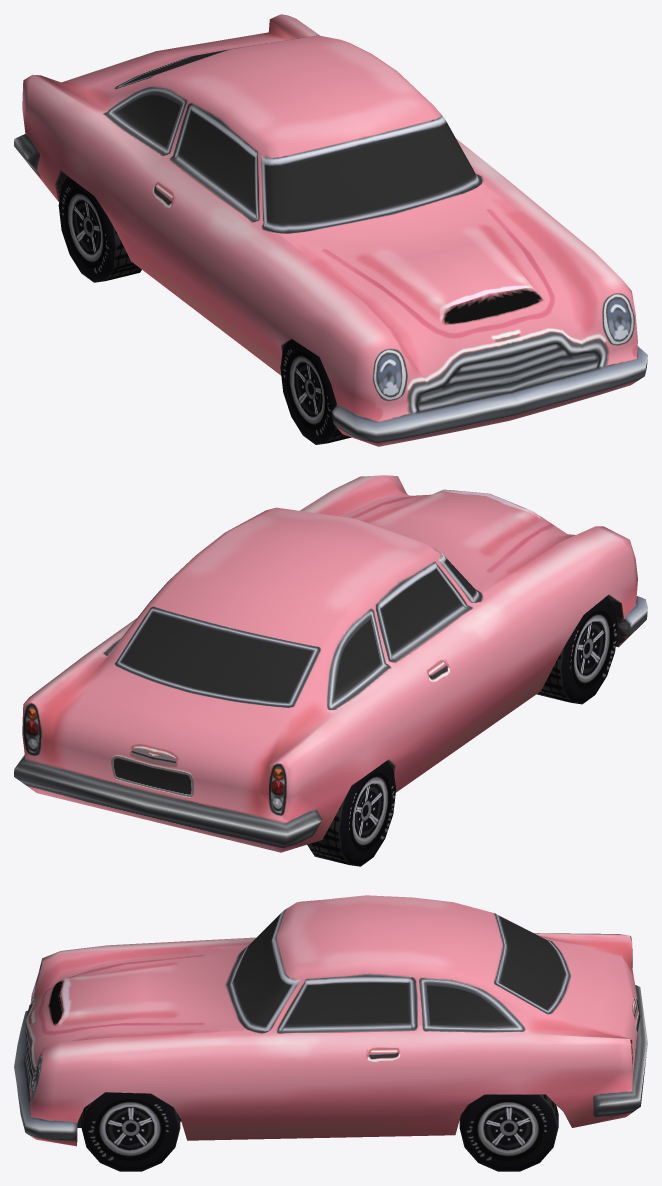
File: DZClassic.fbx
3 renders of one model, top to bottom at view 1: azimuth 30°, elevation 25°; view 2: azimuth 150°, elevation 25°; view 3: azimuth 270°, elevation 25°, orthographic. The views are drawn at different scales.
Visible parts, largest first — view 1: DZClassicbody, WheelBR, WheelFR; view 2: DZClassicbody, WheelBR, WheelFR; view 3: DZClassicbody, WheelBL, WheelFL.
Part boxes in pixels (x1=…): DZClassicbody: x1=14, y1=14, x2=647, y2=446; WheelBR: x1=58, y1=176, x2=141, y2=282; WheelFR: x1=280, y1=339, x2=351, y2=444; DZClassicbody: x1=14, y1=475, x2=647, y2=852; WheelBR: x1=307, y1=761, x2=396, y2=866; WheelFR: x1=536, y1=595, x2=617, y2=704; DZClassicbody: x1=14, y1=895, x2=647, y2=1146; WheelBL: x1=459, y1=1094, x2=558, y2=1171; WheelFL: x1=81, y1=1092, x2=180, y2=1171.
Size of the model in its own units: 208 by 149 by 449.
